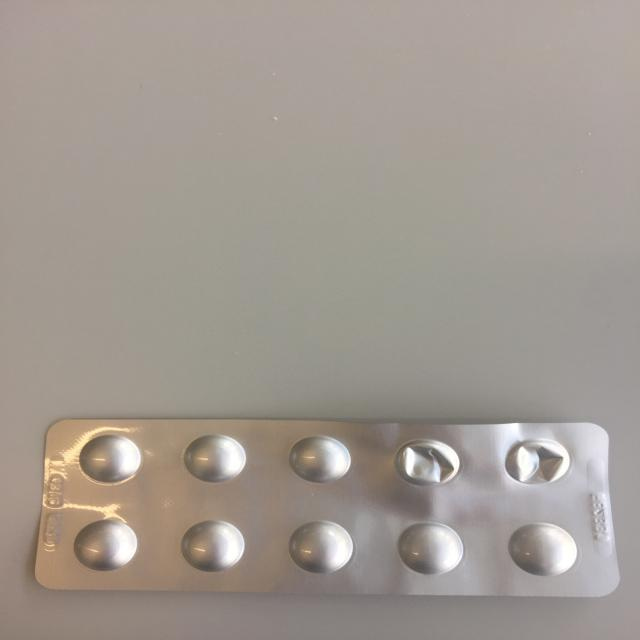Empty: (501, 434, 574, 488), (392, 434, 464, 488)
Pill: (506, 519, 580, 577), (395, 520, 469, 577), (67, 519, 147, 571), (175, 518, 248, 574), (284, 434, 361, 486), (73, 431, 148, 484), (286, 520, 356, 575), (177, 431, 250, 483)
